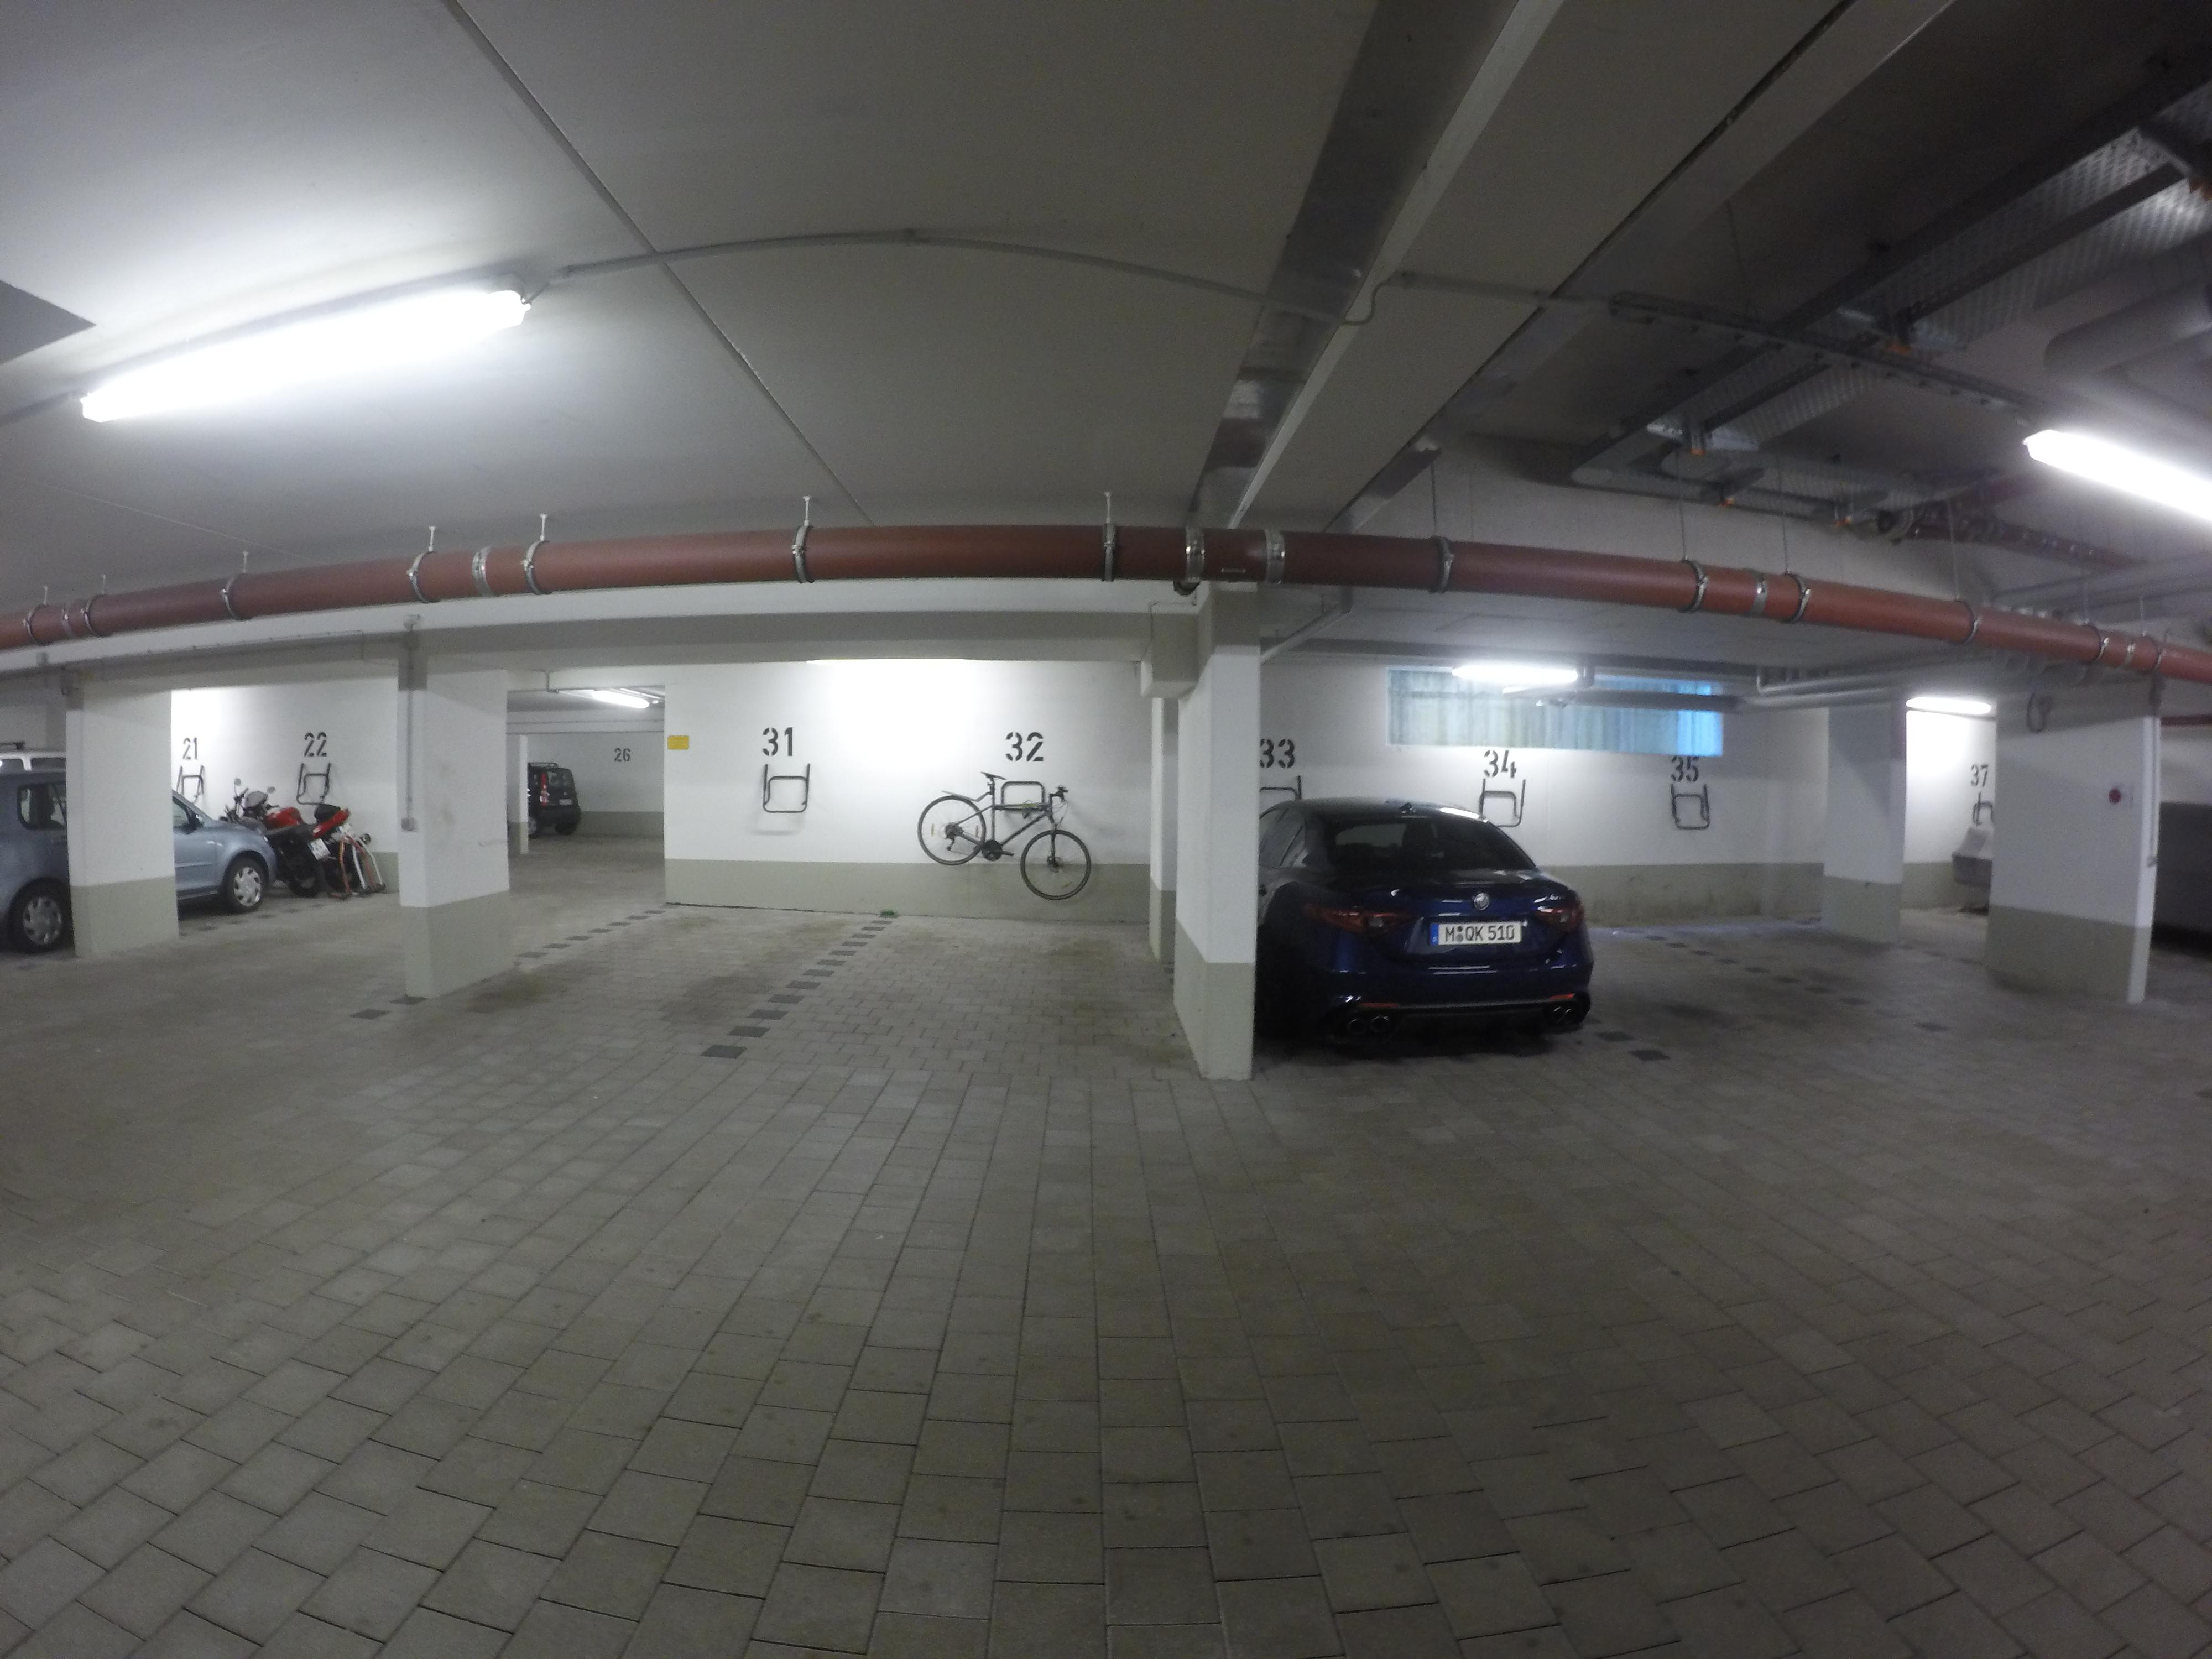0: (1505, 924, 1515, 941)
1: (1497, 924, 1506, 941)
5: (1487, 925, 1497, 941)
K: (1474, 924, 1484, 942)
M: (1444, 925, 1455, 943)
Q: (1465, 925, 1475, 942)
